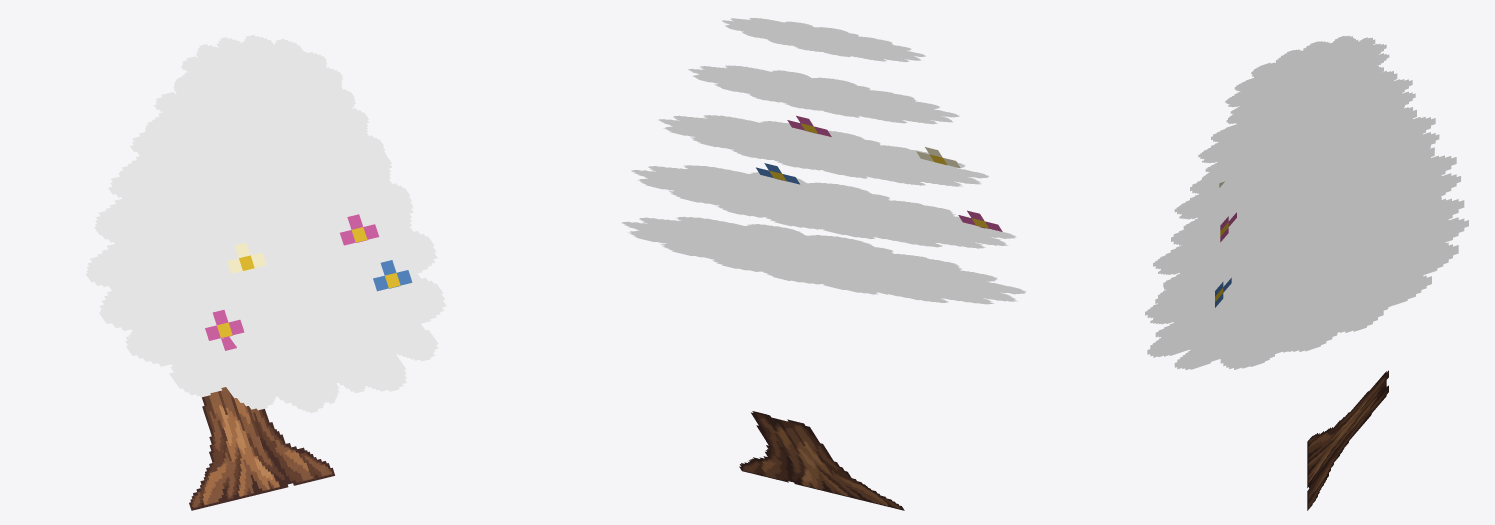
The model's file is SM_BreezeTree_B.fbx.
3 views of the same model, side by side, from view 1: azimuth 30°, elevation 25°; view 2: azimuth 150°, elevation 25°; view 3: azimuth 270°, elevation 25° (orthographic). The views are drawn at different scales.
Parts seen in each view (by area): view 1: B_LeafTier_1.001, B_LeafTier_0, B_LeafTier_2.001, B_LeafTier_3.001, B_LeafTier_4.001, B_Trunk; view 2: B_LeafTier_0, B_LeafTier_1.001, B_LeafTier_2.001, B_LeafTier_3.001, B_Trunk, B_LeafTier_4.001; view 3: B_LeafTier_1.001, B_LeafTier_0, B_LeafTier_2.001, B_LeafTier_3.001, B_LeafTier_4.001, B_Trunk.
Boxes of the visible parts, box(x1,y1,x2,y2) form: B_LeafTier_1.001: box(94, 154, 437, 359); B_LeafTier_0: box(85, 235, 446, 413); B_LeafTier_2.001: box(118, 112, 412, 293); B_LeafTier_3.001: box(144, 78, 386, 226); B_LeafTier_4.001: box(173, 35, 355, 157); B_Trunk: box(189, 387, 334, 510); B_LeafTier_0: box(621, 216, 1026, 304); B_LeafTier_1.001: box(631, 165, 1016, 248); B_LeafTier_2.001: box(658, 115, 988, 186); B_LeafTier_3.001: box(688, 65, 959, 124); B_Trunk: box(739, 411, 904, 510); B_LeafTier_4.001: box(722, 18, 925, 62); B_LeafTier_1.001: box(1153, 147, 1461, 318); B_LeafTier_0: box(1145, 196, 1468, 369); B_LeafTier_2.001: box(1174, 107, 1439, 256); B_LeafTier_3.001: box(1198, 70, 1415, 193); B_LeafTier_4.001: box(1225, 36, 1389, 130); B_Trunk: box(1307, 370, 1388, 510).
Size of the model in its own units: 328 by 308 by 414.
7 materials, 2 textured.
